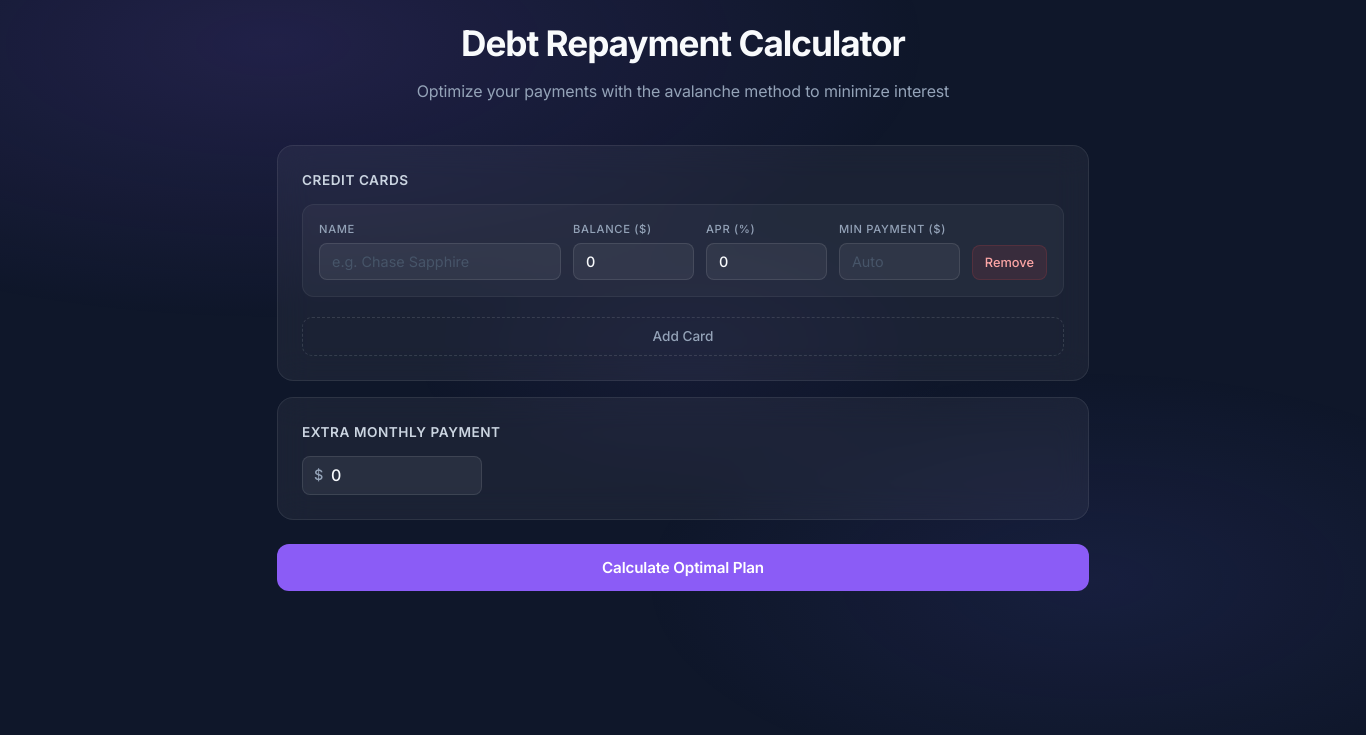
Test case: App › shows results after clicking Calculate
This screenshot has width=1366, height=735.
Note: Fill in card data
In the field with placeholder "e.g. Chase Sapphire": (440, 262) [319, 243, 561, 280], type "Test Card"
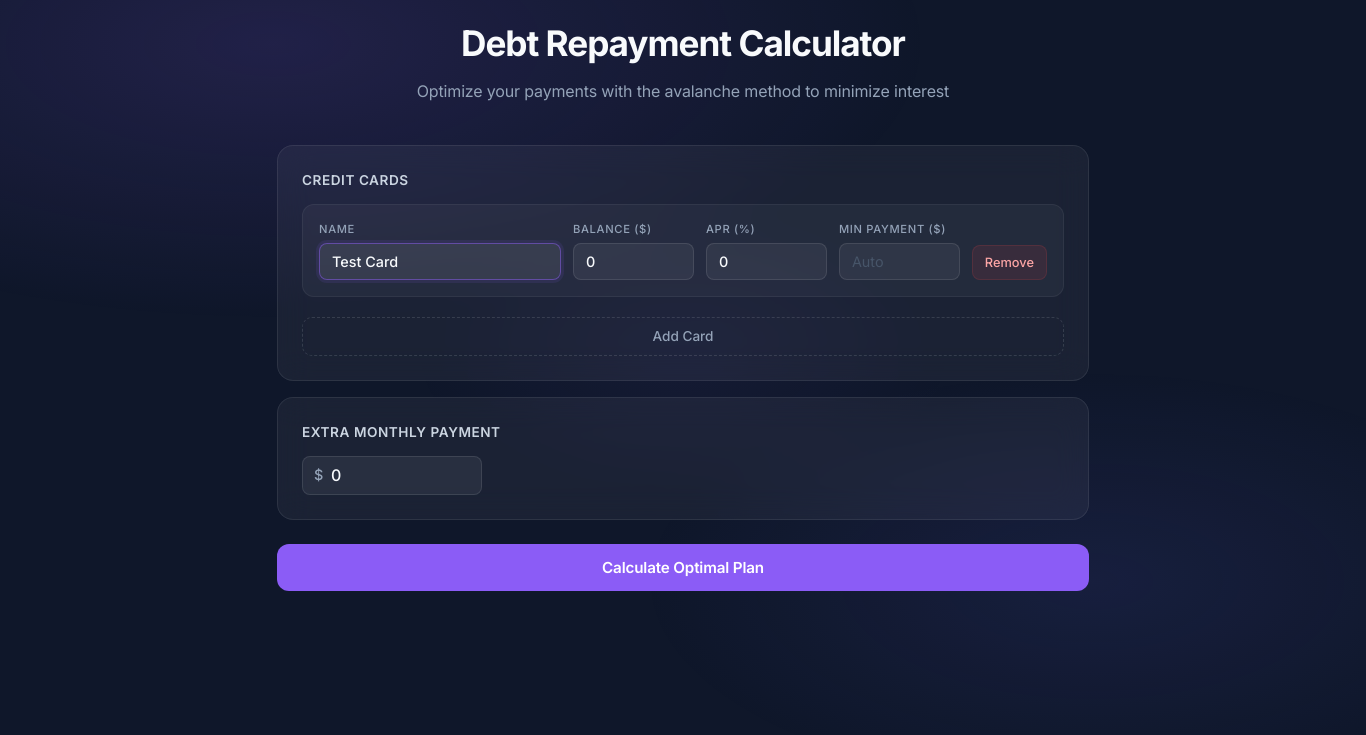
Replace the text in the number field labelled "Balance ($)" with "5000": (633, 262) [573, 243, 694, 280]
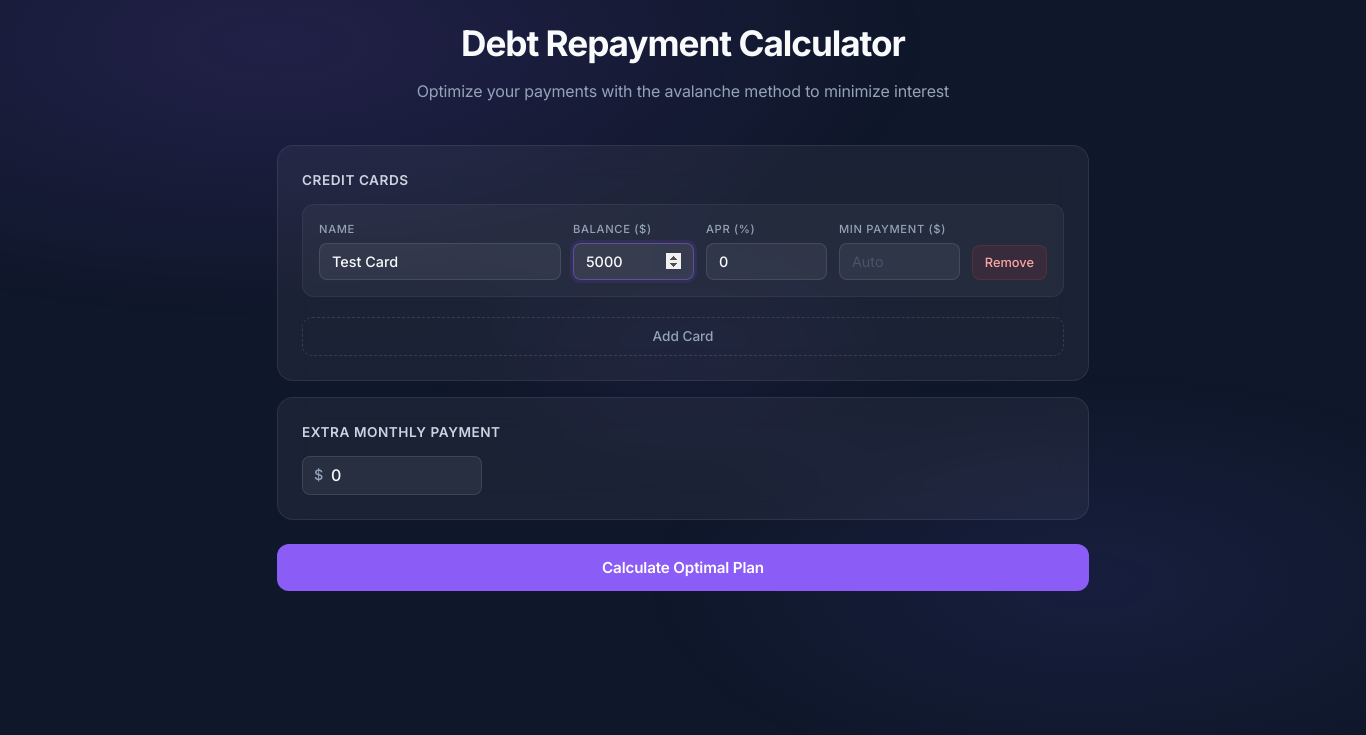
Replace the text in the number field labelled "APR (%)" with "20": (766, 262) [706, 243, 827, 280]
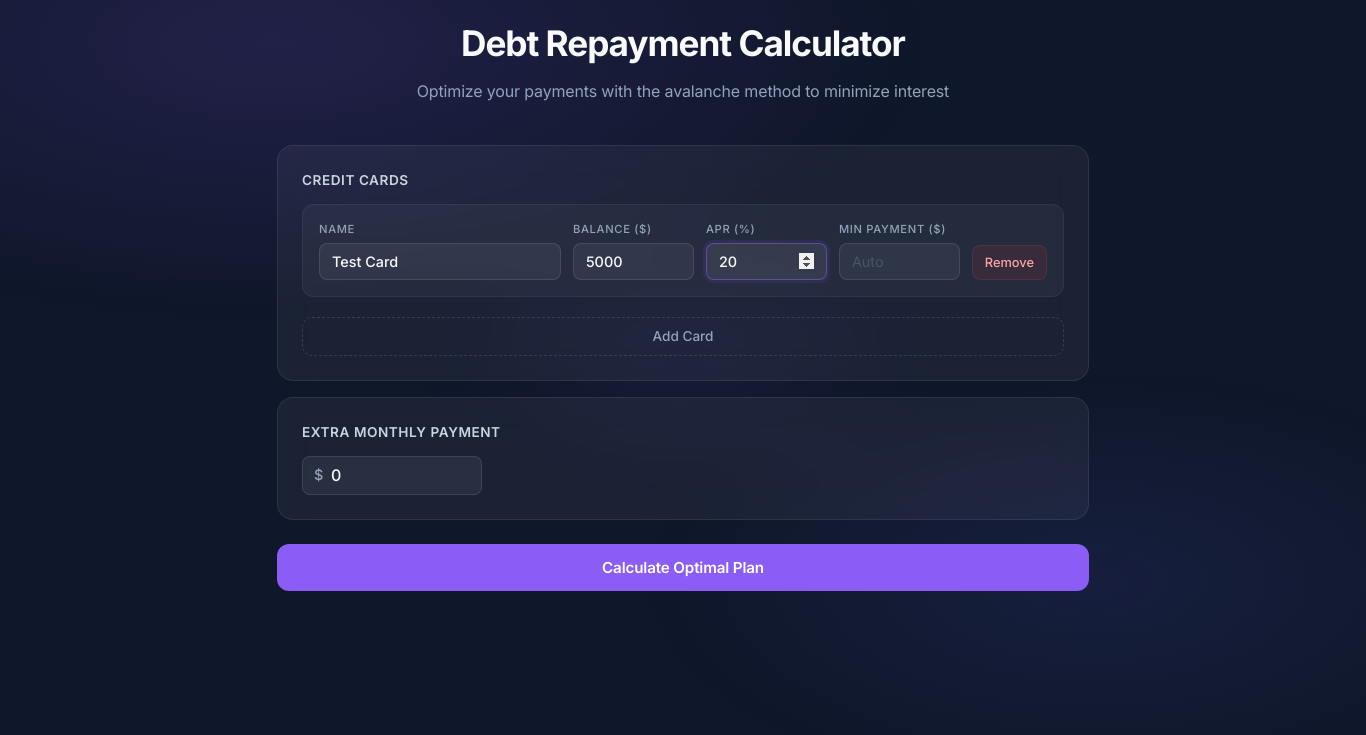
Replace the text in the number field labelled "Extra Monthly Payment $" with "200": (392, 475) [302, 456, 482, 495]
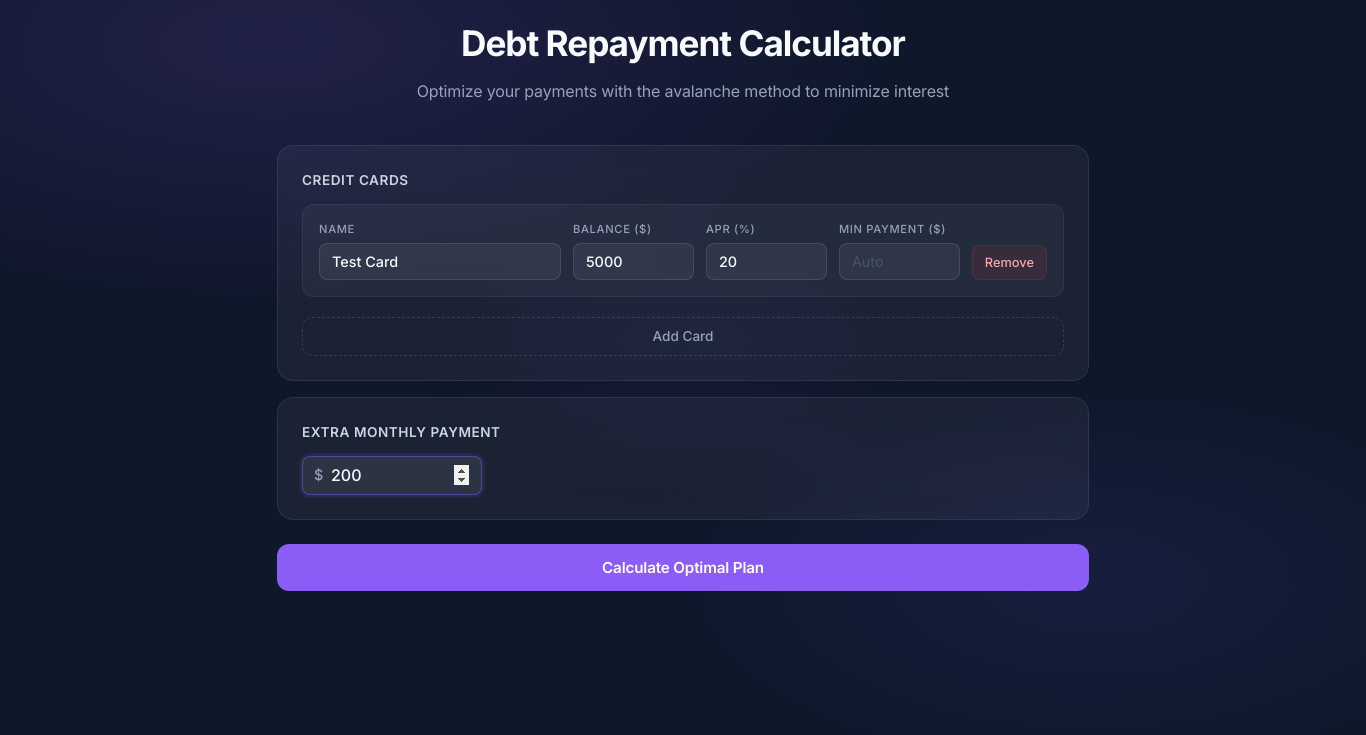
Click the button "Calculate Optimal Plan": (683, 568) [277, 544, 1089, 591]
(page scrolled)
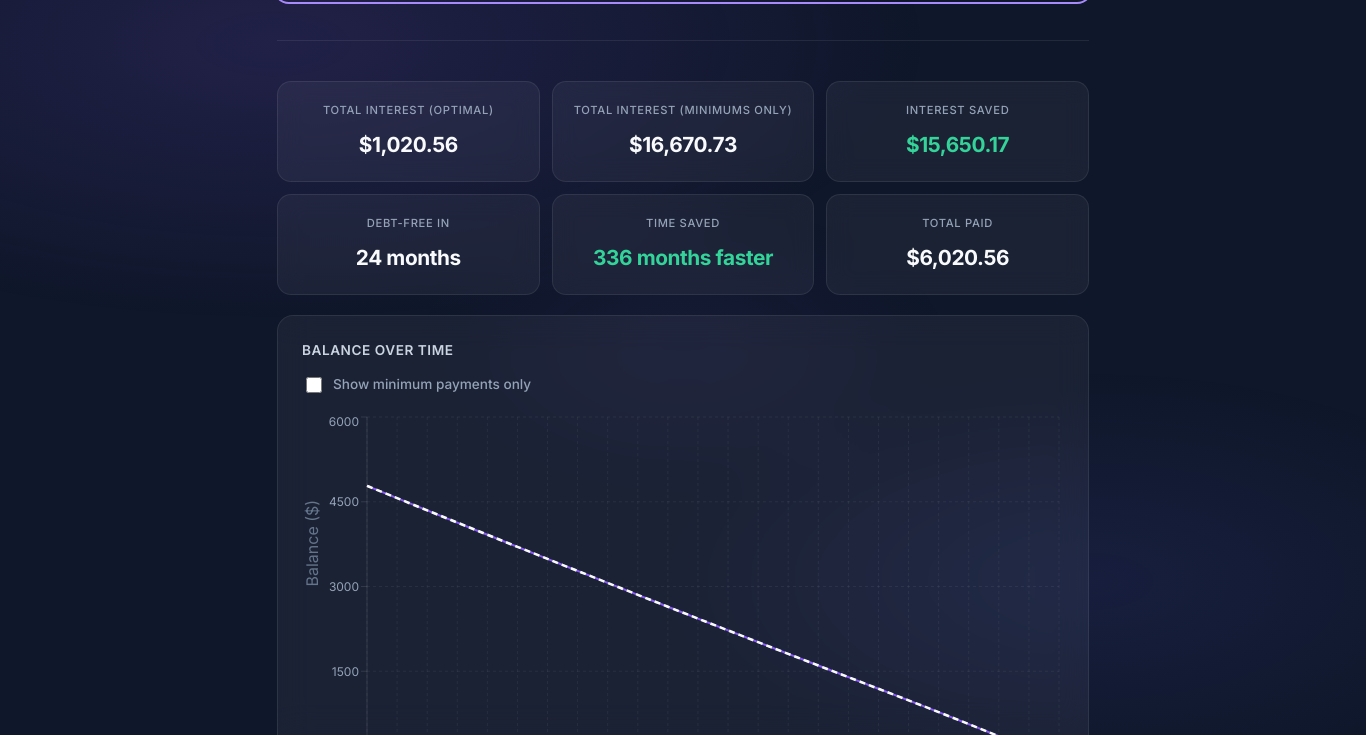
Check: the text "Interest Saved" is shown, box [906, 103, 1009, 117]
Check: the heading "Balance Over Time" is shown, box [302, 342, 454, 358]
